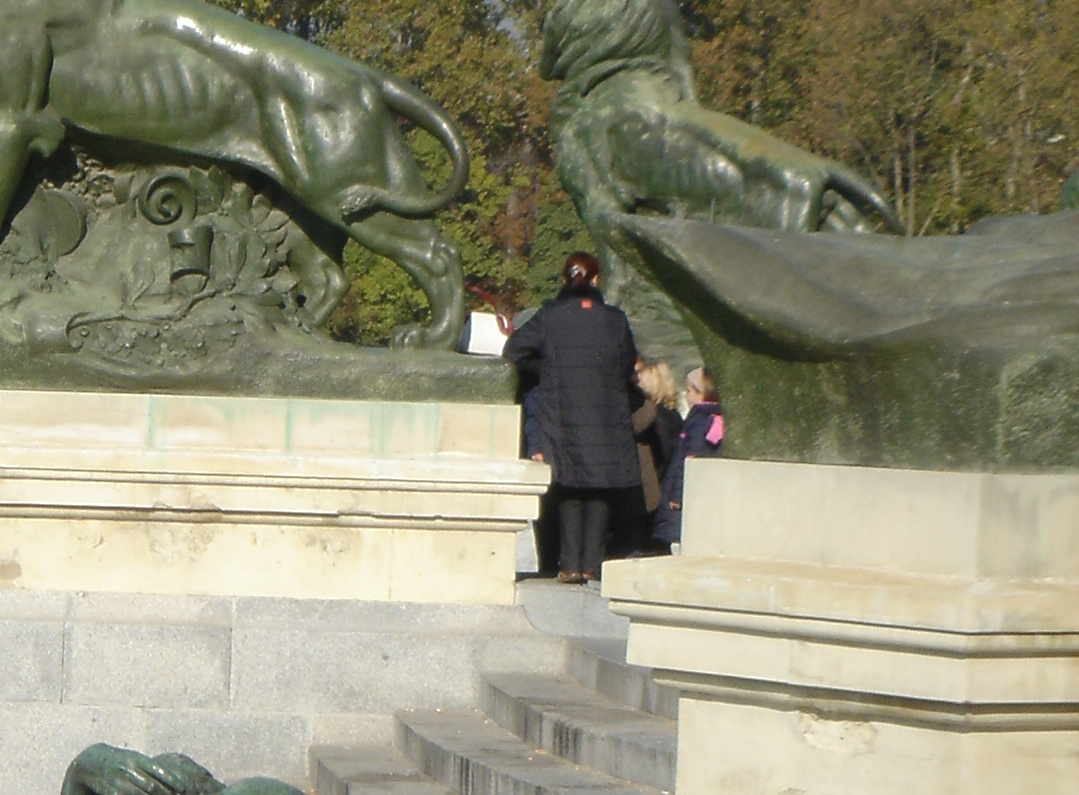person: (533, 248, 628, 582)
